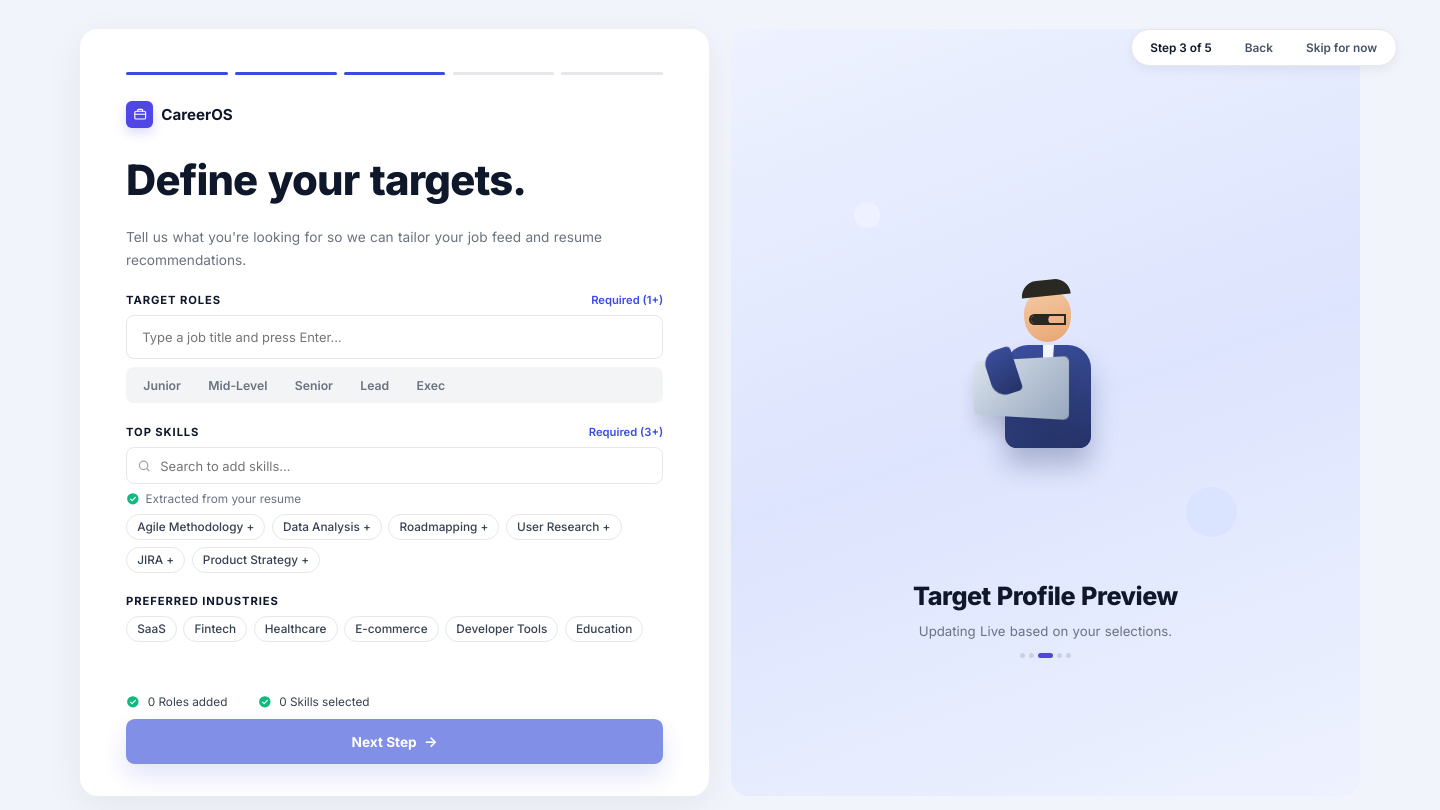
Scenario: Onboarding › adds a custom role with Enter
The width and height of the screenshot is (1440, 810).
Type "Data Engineer" into the field with placeholder "Type a job title and press Enter…". click: (395, 337)
box: [135,324,654,350]
Then press Enter
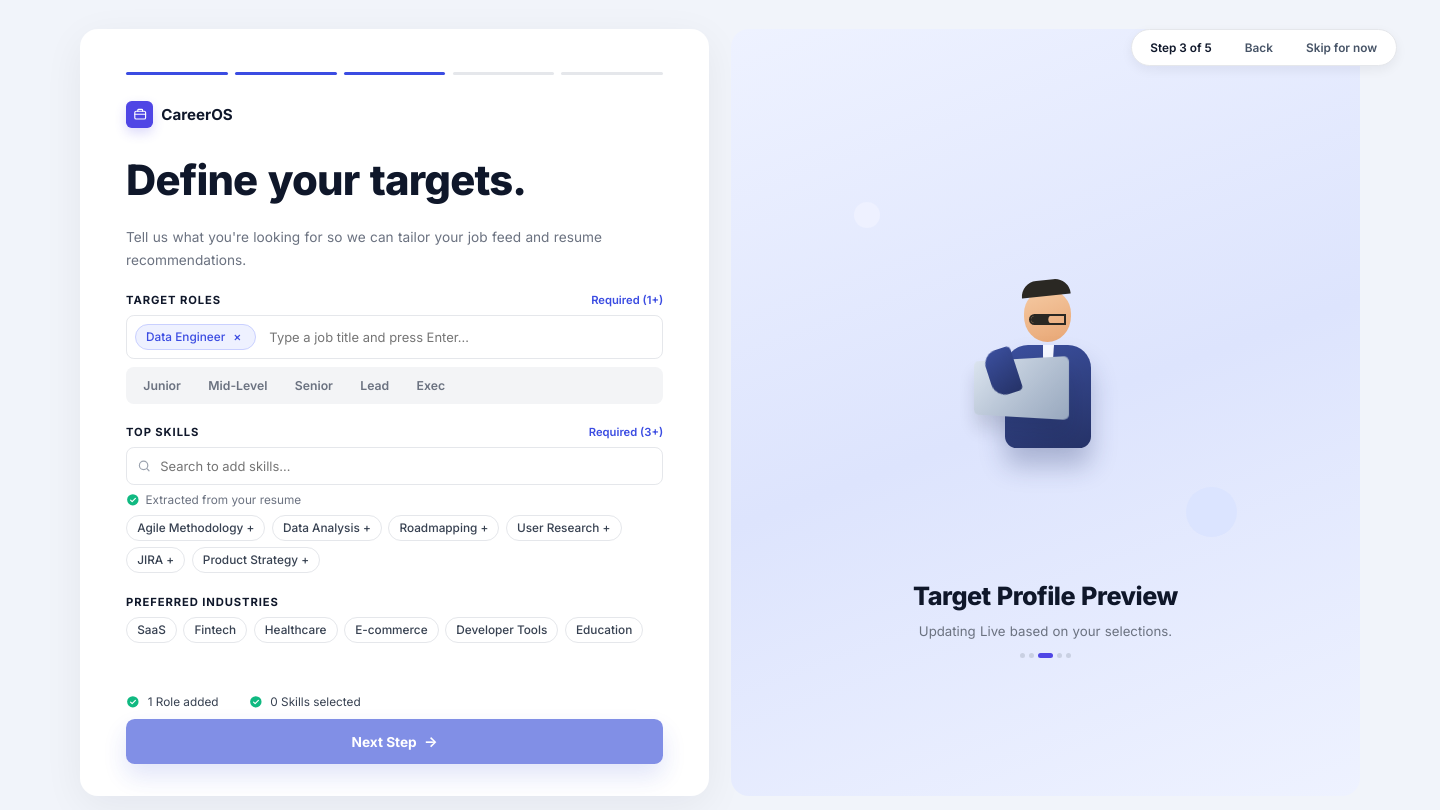
Now the text "Data Engineer" is shown, box [146,330,225,344]
